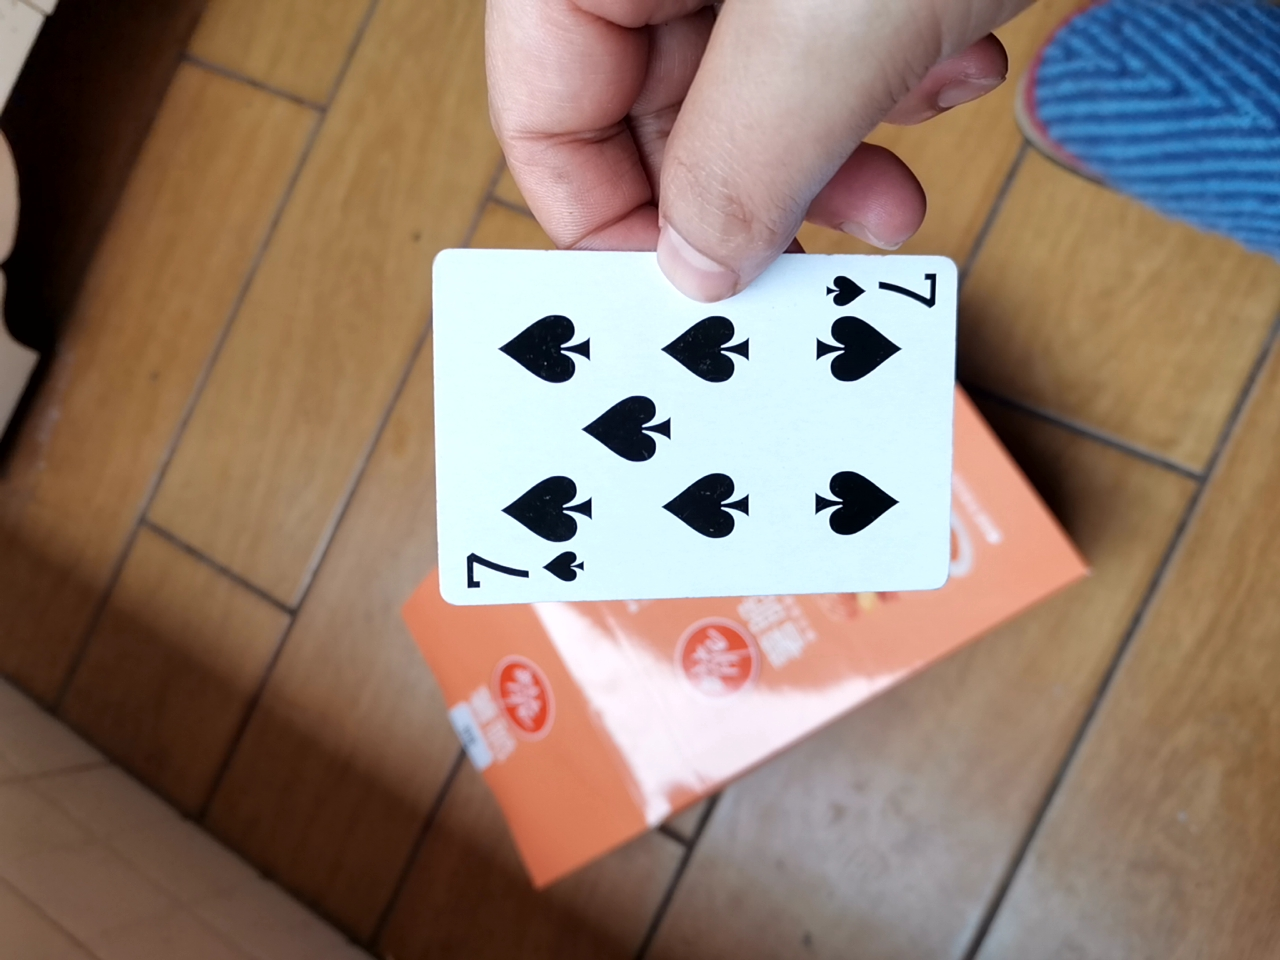ht 7: (406, 251, 973, 612)
